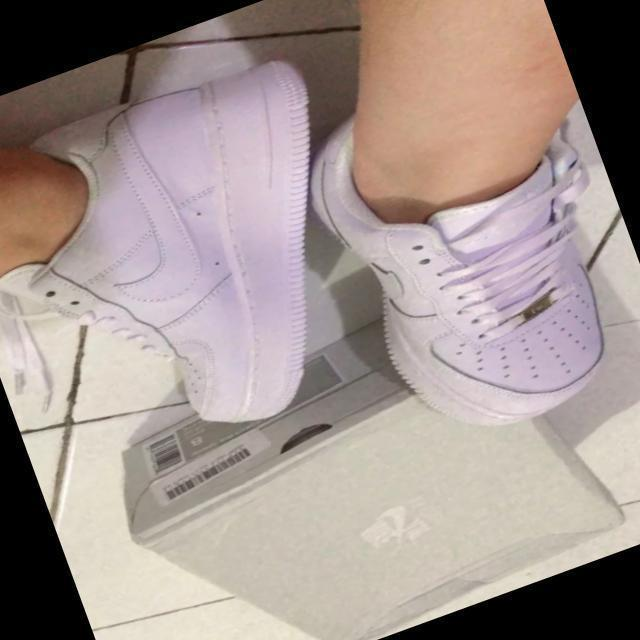nike fake air force: (287, 40, 640, 463)
